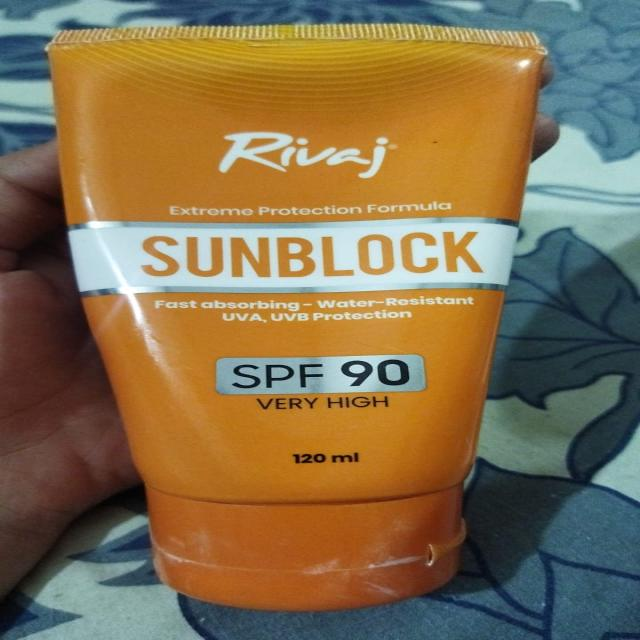sun block: (28, 10, 563, 622)
